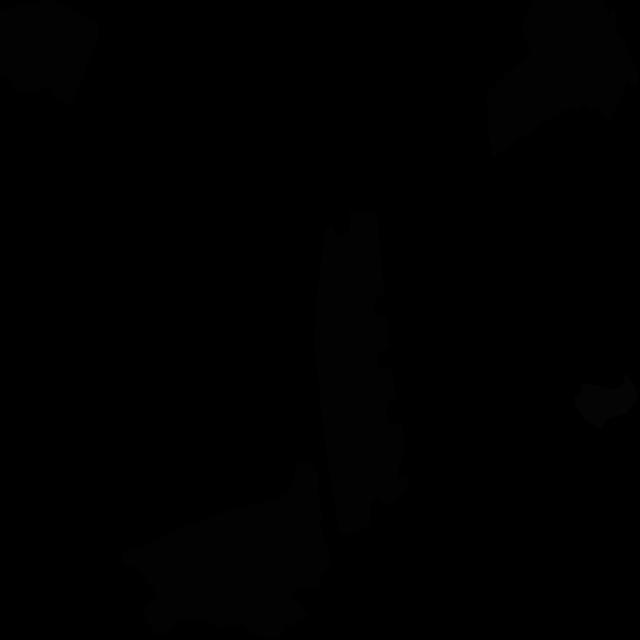cardboard: (122, 461, 330, 640), (314, 211, 410, 535), (485, 0, 638, 157), (0, 0, 99, 104)
soft_plastic: (574, 373, 639, 429)
